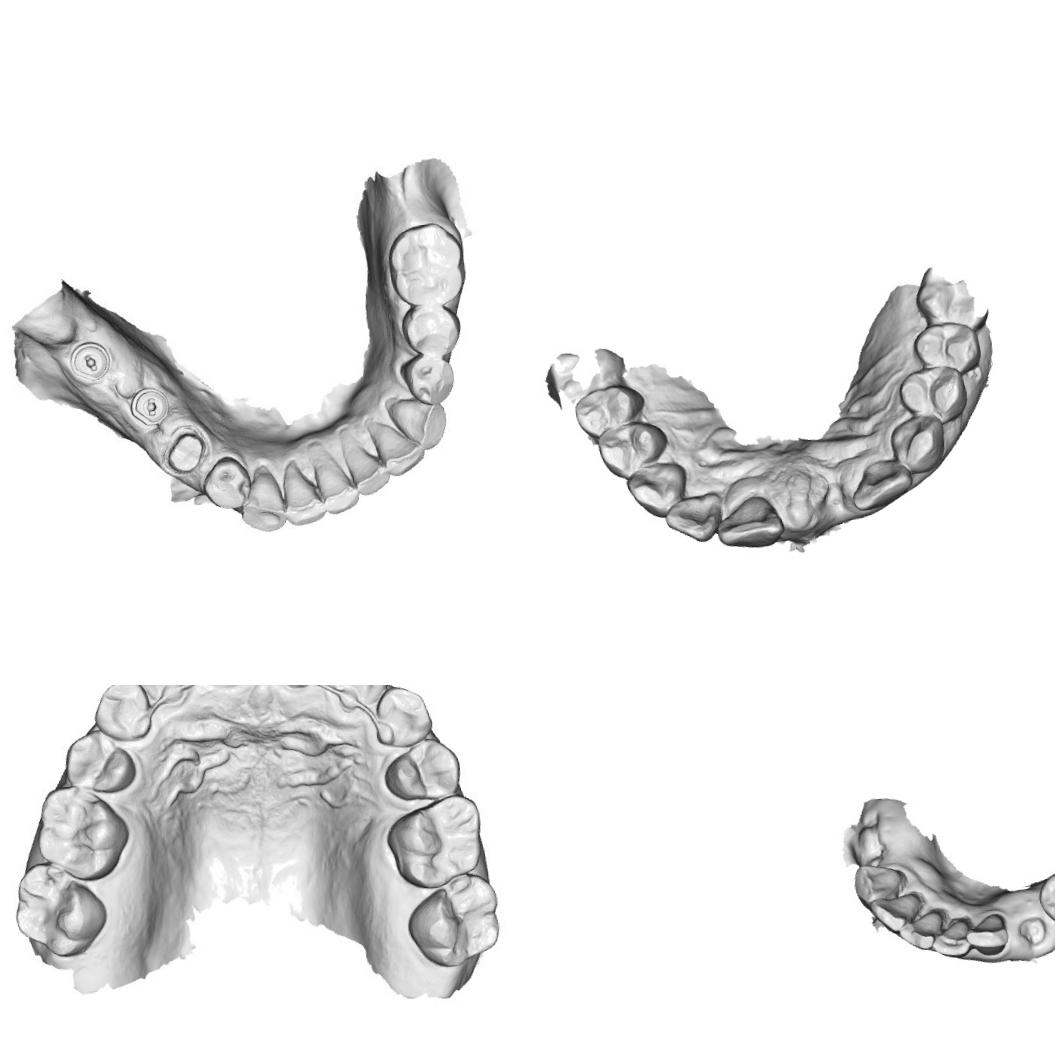canine: (624, 458, 691, 524), (383, 392, 451, 455), (884, 412, 948, 478), (92, 685, 159, 747), (371, 685, 435, 748), (236, 464, 290, 536), (852, 860, 910, 905)
crown: (160, 426, 209, 476)
implant_minus: (64, 337, 112, 383), (126, 384, 172, 428)
incisor: (712, 492, 788, 554), (847, 455, 918, 514), (307, 446, 364, 518), (364, 416, 427, 480), (340, 437, 393, 500), (660, 492, 720, 547), (278, 460, 324, 528), (868, 892, 924, 935), (962, 911, 1011, 959), (897, 908, 948, 952), (133, 685, 203, 716), (930, 917, 974, 960), (331, 685, 391, 706)
molar: (29, 779, 132, 888), (382, 791, 490, 890), (404, 869, 506, 973), (8, 860, 110, 962), (382, 218, 470, 310), (909, 258, 994, 337), (540, 342, 630, 403)
premolar: (58, 723, 136, 798), (384, 735, 464, 808), (895, 360, 976, 428), (592, 418, 672, 480), (570, 382, 650, 440), (905, 318, 984, 376), (397, 298, 466, 361), (399, 350, 459, 410), (198, 454, 256, 515), (1036, 870, 1055, 928)
